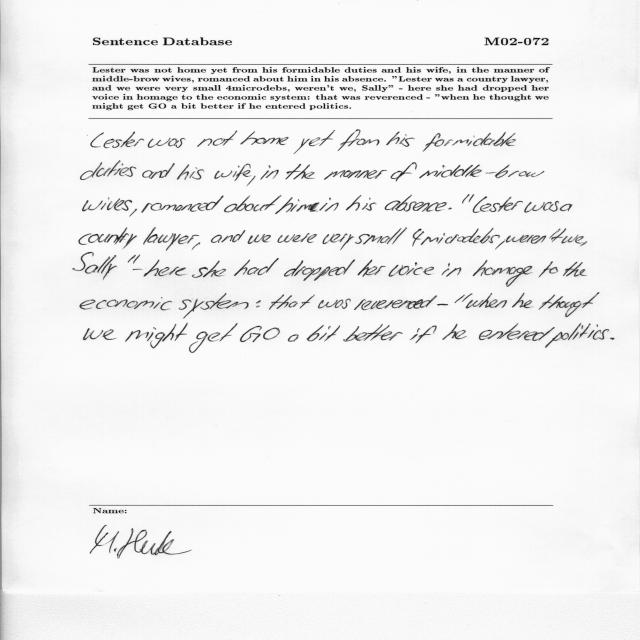word: (423, 132, 516, 152), (420, 165, 545, 179), (179, 293, 249, 318), (545, 323, 609, 348), (473, 260, 532, 287), (125, 323, 188, 348), (413, 228, 500, 246), (284, 259, 355, 281), (539, 292, 600, 317), (141, 195, 224, 213), (189, 323, 237, 353), (479, 323, 555, 341), (143, 227, 199, 251), (79, 227, 137, 249), (354, 295, 437, 310), (73, 252, 117, 280), (80, 297, 172, 310), (81, 161, 137, 180), (385, 195, 447, 212), (343, 324, 403, 341), (294, 130, 335, 154), (224, 195, 281, 212), (506, 228, 566, 244), (275, 197, 331, 214), (355, 228, 407, 245), (338, 130, 380, 151), (473, 196, 523, 213), (91, 132, 144, 148), (234, 258, 279, 276), (269, 294, 315, 310), (144, 260, 187, 277), (240, 131, 289, 145), (83, 198, 132, 212), (197, 130, 237, 147), (389, 262, 434, 277), (240, 326, 280, 342), (324, 170, 387, 180), (215, 164, 252, 181), (466, 293, 507, 308), (192, 260, 226, 278), (322, 234, 354, 251), (142, 163, 175, 179), (307, 325, 340, 341), (391, 162, 417, 181), (410, 326, 437, 344), (346, 195, 376, 211), (358, 260, 386, 277), (286, 164, 316, 179), (211, 230, 245, 243), (386, 132, 415, 147), (442, 323, 467, 340), (524, 201, 559, 213), (177, 164, 203, 180), (84, 328, 117, 340), (278, 233, 317, 243), (148, 138, 186, 148), (318, 298, 351, 309), (563, 262, 587, 277), (539, 261, 558, 278), (512, 293, 532, 308), (260, 165, 279, 180), (442, 263, 461, 277), (248, 234, 271, 244), (561, 235, 584, 244), (455, 293, 473, 303), (325, 203, 339, 212), (128, 254, 140, 264), (495, 240, 506, 250), (462, 195, 474, 204), (247, 176, 256, 186), (560, 204, 572, 211), (288, 334, 298, 342), (129, 209, 137, 217), (192, 242, 200, 250), (256, 300, 261, 308), (580, 241, 587, 246), (437, 304, 448, 306), (133, 269, 143, 270), (448, 208, 452, 210), (610, 338, 614, 340)
